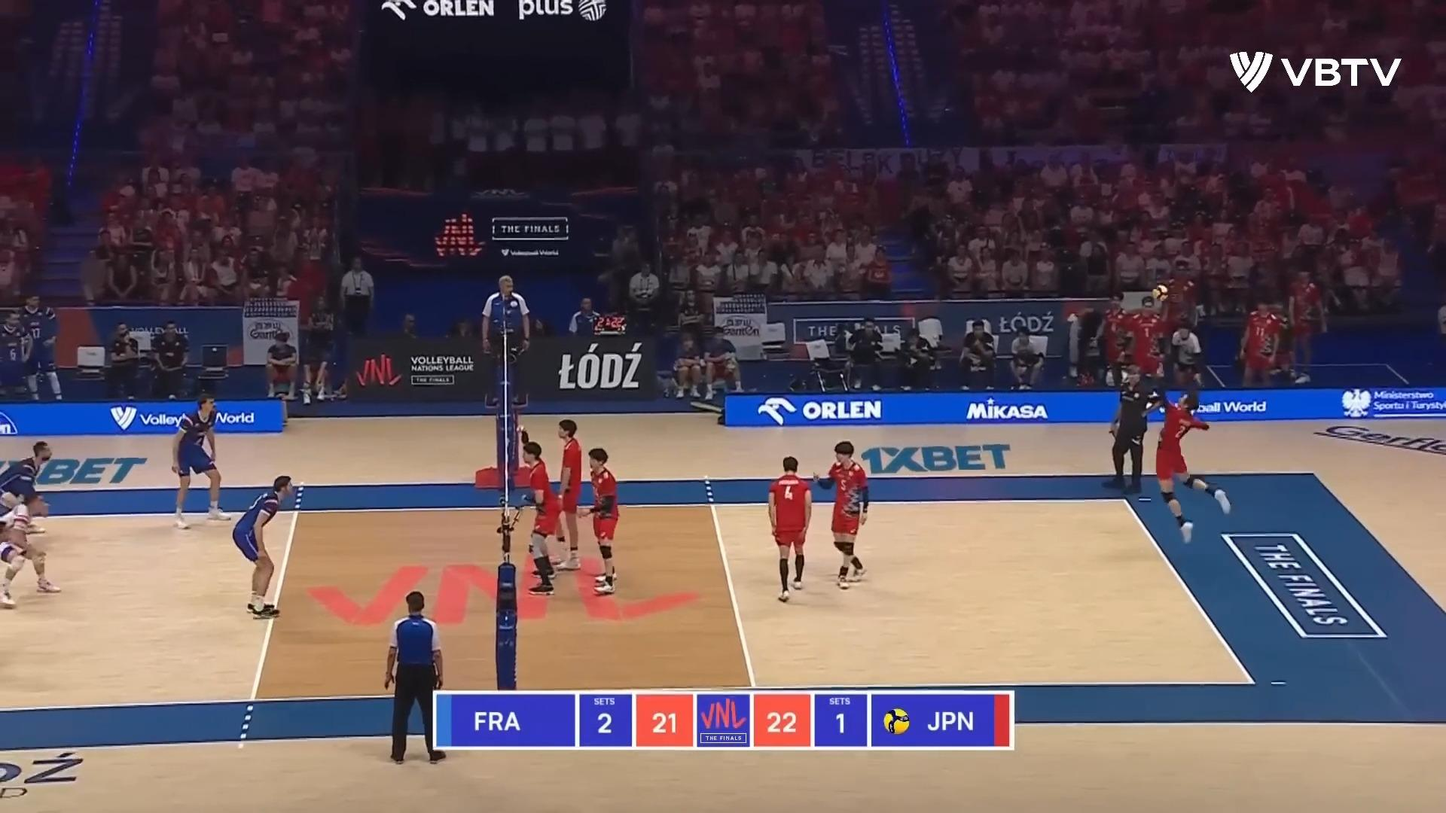ball: (1150, 284, 1170, 303)
